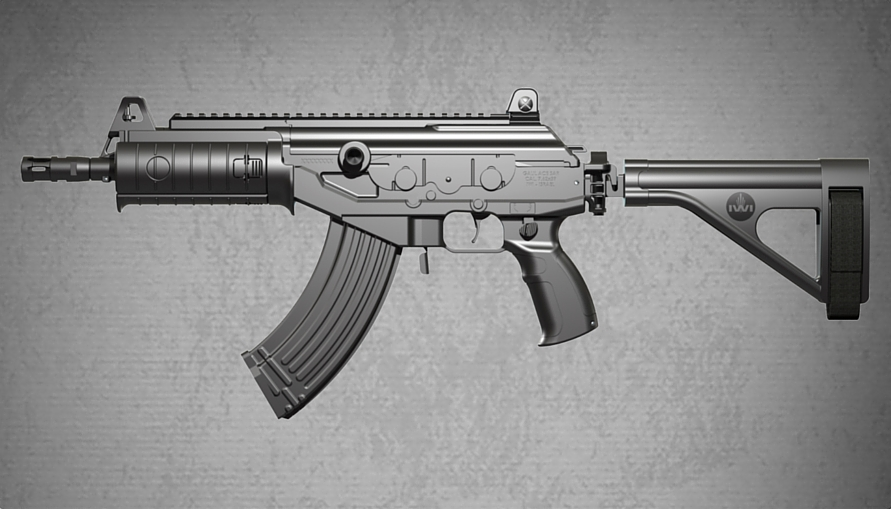Rifle: (19, 87, 873, 422)
